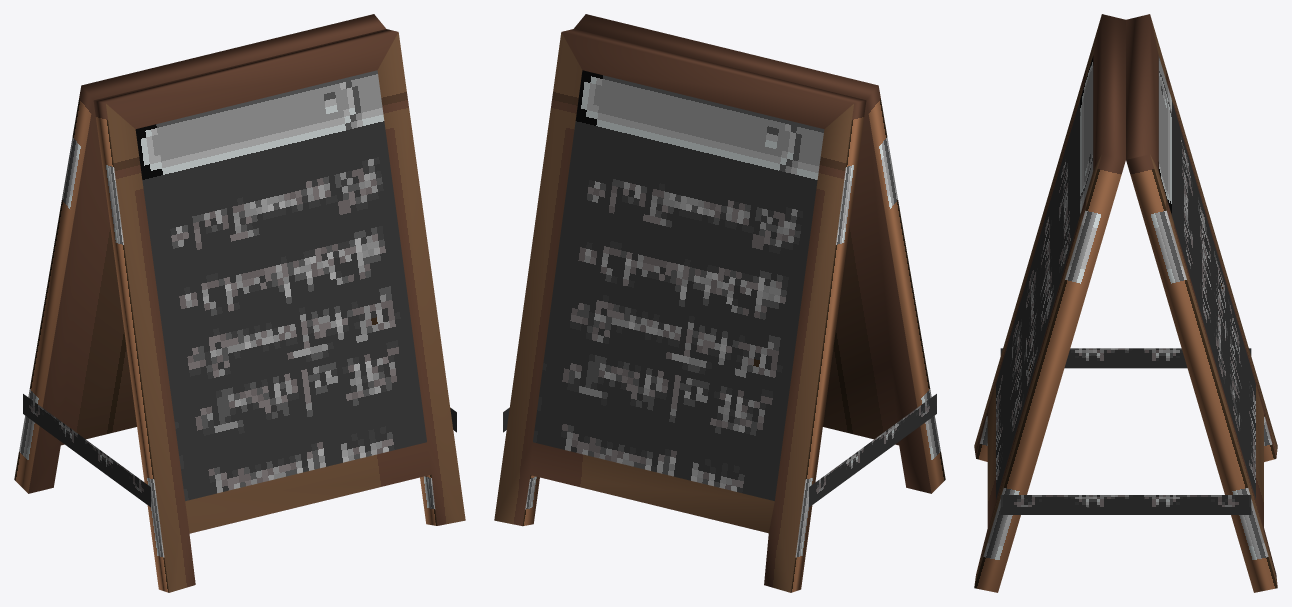
3 renders of one model, left to right at view 1: azimuth 30°, elevation 25°; view 2: azimuth 150°, elevation 25°; view 3: azimuth 270°, elevation 25°, orthographic.
Parts seen in each view (by area): view 1: 3332IMIG11_01; view 2: 3332IMIG11_01; view 3: 3332IMIG11_01.
Part boxes in pixels (left/top/right/bottom): 3332IMIG11_01: left=14, top=14, right=465, bottom=592; 3332IMIG11_01: left=494, top=14, right=945, bottom=592; 3332IMIG11_01: left=974, top=14, right=1277, bottom=592.
Size of the model in its own units: 0.9639 by 1.35 by 0.8438.
Materials: 1 (1 with a texture image).
